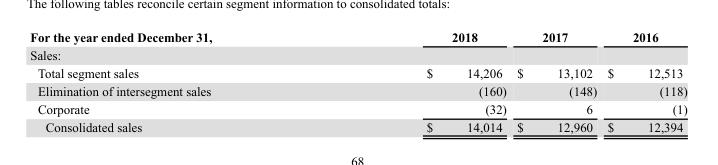table: (29, 29, 686, 133)
table column: (29, 29, 318, 133), (318, 29, 511, 133), (511, 29, 601, 133), (601, 29, 686, 133)
table column header: (29, 29, 686, 45)
table projected row header: (29, 45, 686, 63)
table row: (29, 45, 686, 63), (29, 63, 686, 81), (29, 81, 686, 99), (29, 99, 686, 117), (29, 29, 686, 45), (29, 117, 686, 133)
